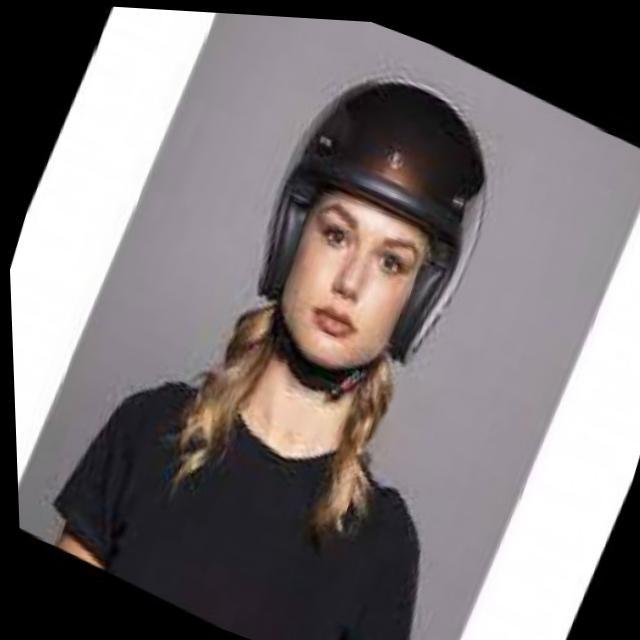Helmet: (237, 74, 492, 407)
